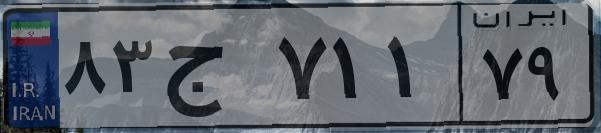1: (385, 28, 445, 110), (330, 28, 385, 110)
3: (110, 28, 158, 98)
7: (270, 28, 330, 110), (475, 38, 525, 113)
8: (57, 26, 110, 100)
9: (525, 38, 570, 115)
ج: (158, 20, 270, 120)
